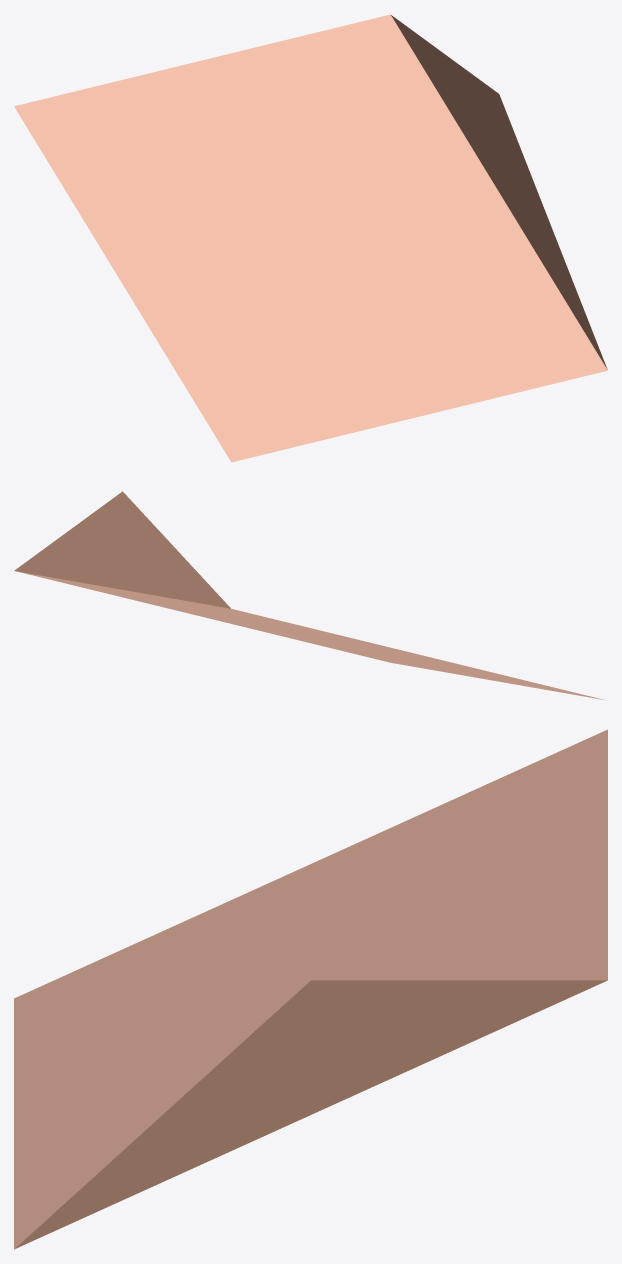
File: rampSideRight.dae
The picture shows the model from 3 angles, top to bottom: view 1: azimuth 30°, elevation 25°; view 2: azimuth 150°, elevation 25°; view 3: azimuth 270°, elevation 25°; orthographic projection. The views are drawn at different scales.
Visible parts, largest first — view 1: terrain_ramp; view 2: terrain_ramp; view 3: terrain_ramp.
Boxes of the visible parts, x1,y1,x2,y2 form: terrain_ramp: (14, 14, 607, 462); terrain_ramp: (14, 491, 605, 700); terrain_ramp: (14, 729, 607, 1249).
Size of the model in its own units: 1 by 1 by 0.5.
